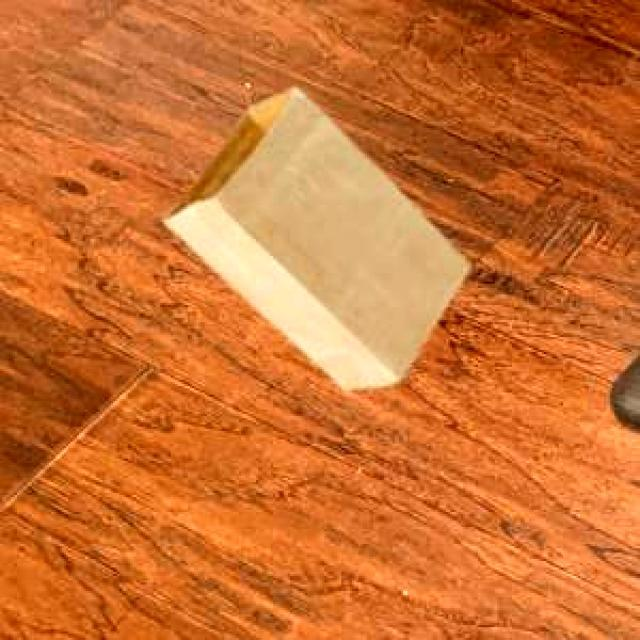Paper_Bag: (161, 86, 466, 385)
